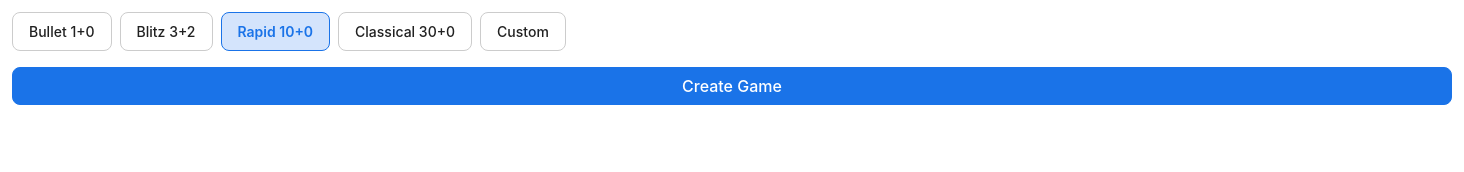
Test: CreateGameForm › shows error message on creation failure
Click the button "Create Game" at [732, 86], box [12, 67, 1452, 105]
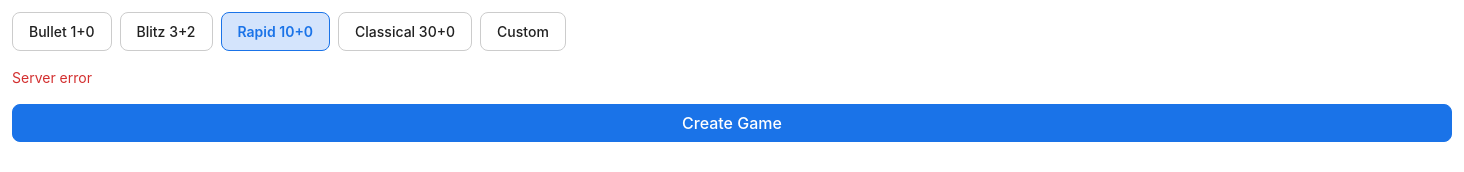
expect the message reads "Server error": met, box [12, 69, 92, 86]
